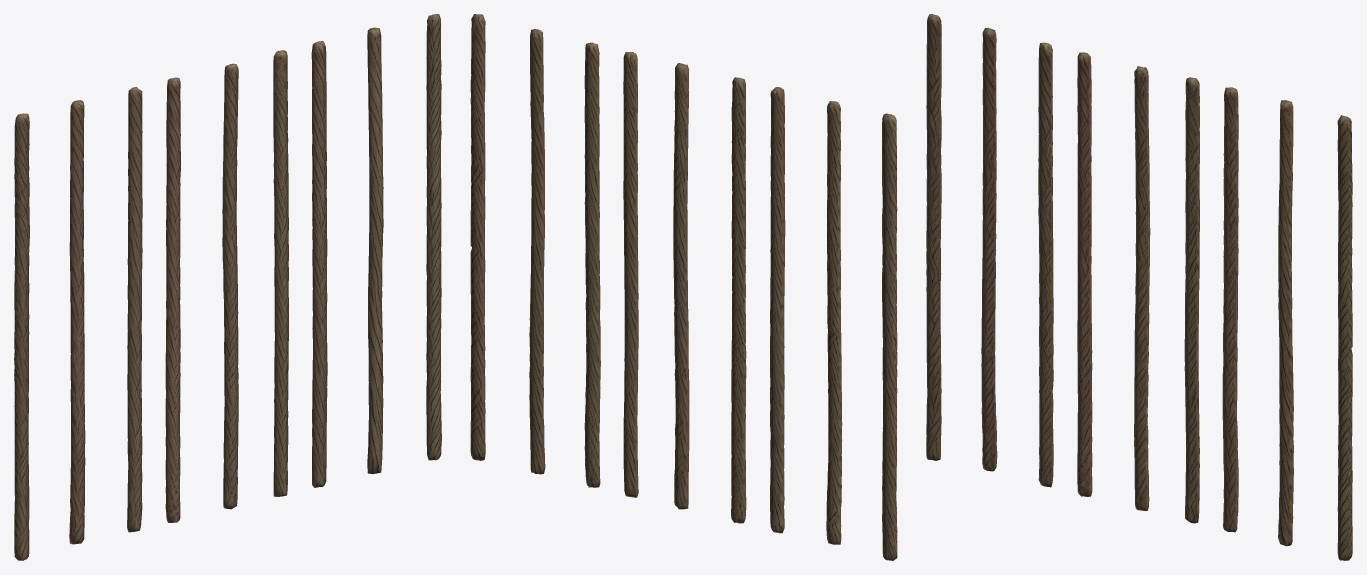
Rendered from Prop_PulleyRope.fbx.
3 renders of one model, left to right at view 1: azimuth 30°, elevation 25°; view 2: azimuth 150°, elevation 25°; view 3: azimuth 330°, elevation 25°, orthographic.
Parts seen in each view (by area): view 1: texture_mapping; view 2: texture_mapping; view 3: texture_mapping.
Boxes of the visible parts, box(x1,y1,x2,y2) form: texture_mapping: box(14, 14, 441, 560); texture_mapping: box(470, 14, 897, 560); texture_mapping: box(926, 14, 1352, 560).
Size of the model in its own units: 0.9856 by 0.0335 by 0.9845.
Materials: 1 (1 with a texture image).
